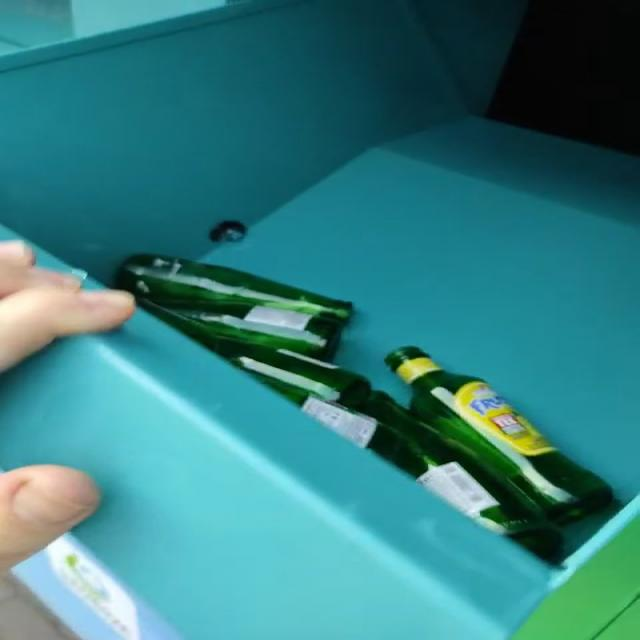glass: (116, 254, 615, 558)
